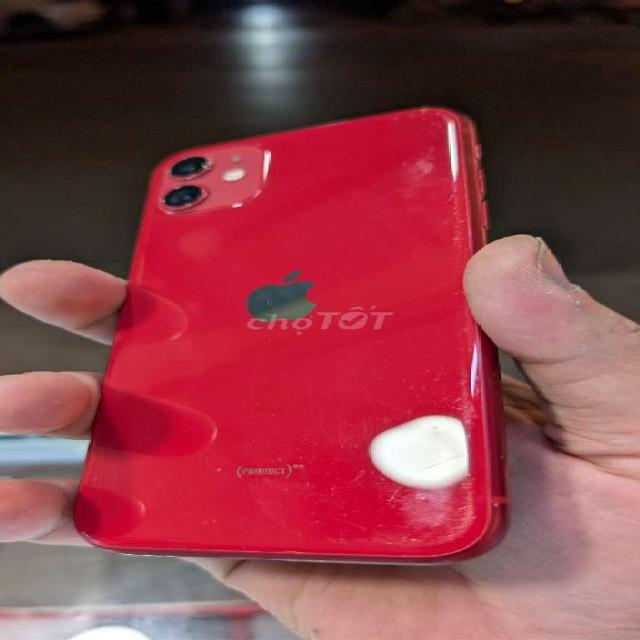scratch: (380, 102, 486, 243), (324, 479, 451, 558), (448, 327, 482, 560), (243, 446, 322, 494)
